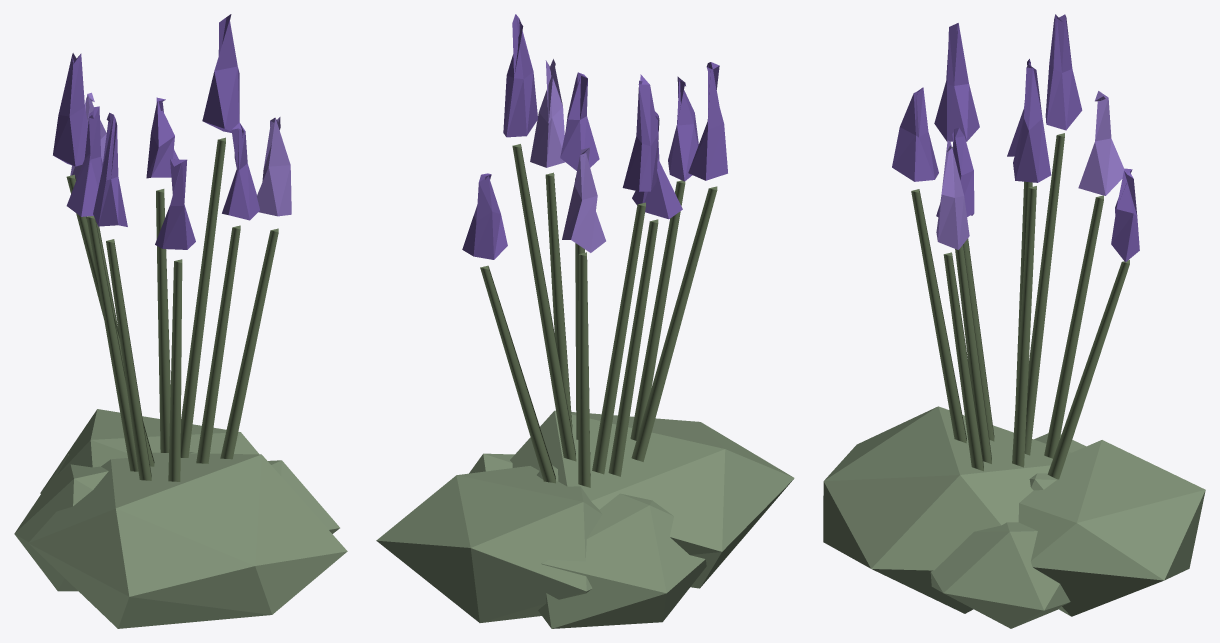
File: lavender-plant-b.glb
3 views of the same model, side by side, from view 1: azimuth 30°, elevation 25°; view 2: azimuth 150°, elevation 25°; view 3: azimuth 270°, elevation 25° (orthographic). The views are drawn at different scales.
Visible parts, largest first — view 1: foliage, stems, blooms-deep, blooms; view 2: foliage, stems, blooms-deep, blooms; view 3: foliage, stems, blooms-deep, blooms.
Part boxes in pixels (bbox=[...]): foliage: bbox=[14, 409, 347, 628]; stems: bbox=[66, 137, 278, 481]; blooms-deep: bbox=[53, 14, 259, 249]; blooms: bbox=[70, 92, 291, 216]; foliage: bbox=[376, 410, 794, 628]; stems: bbox=[480, 144, 717, 487]; blooms-deep: bbox=[462, 14, 727, 259]; blooms: bbox=[530, 59, 605, 252]; foliage: bbox=[823, 406, 1205, 628]; stems: bbox=[911, 133, 1129, 479]; blooms-deep: bbox=[892, 14, 1139, 262]; blooms: bbox=[936, 91, 1124, 249].
Bounding box in the file's own units: 0.3448 × 0.6602 × 0.4151.
